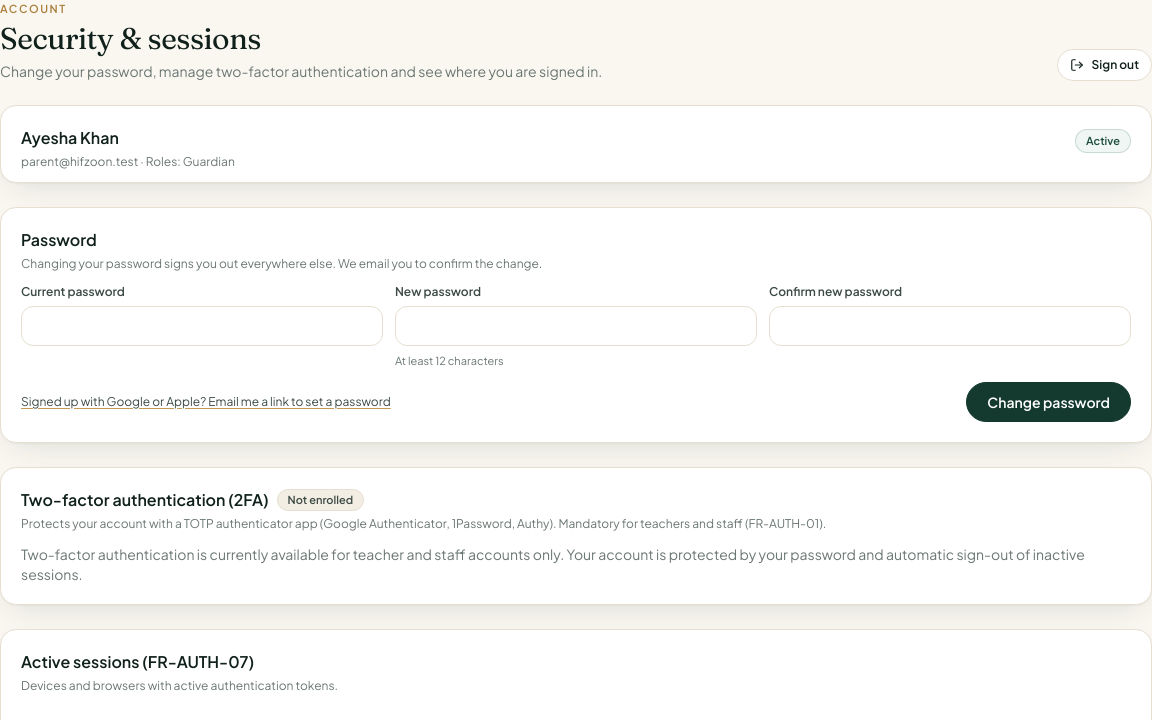
Scenario: Account security → Password › changes the password while signed in and reports the other sessions ended (M69)
Type "old-password-123" into the password field labelled "Current password" at (202, 326), box [21, 306, 383, 346]
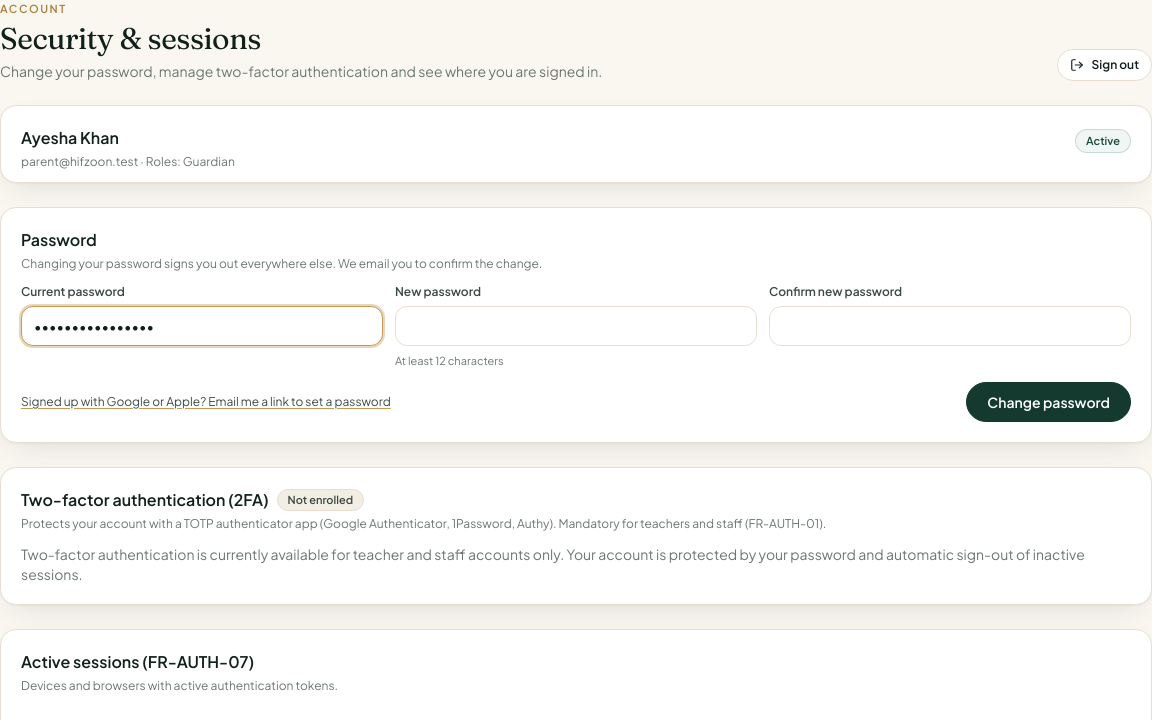
Type "new-password-456" into the password field labelled "New password" at (576, 326), box [395, 306, 757, 346]
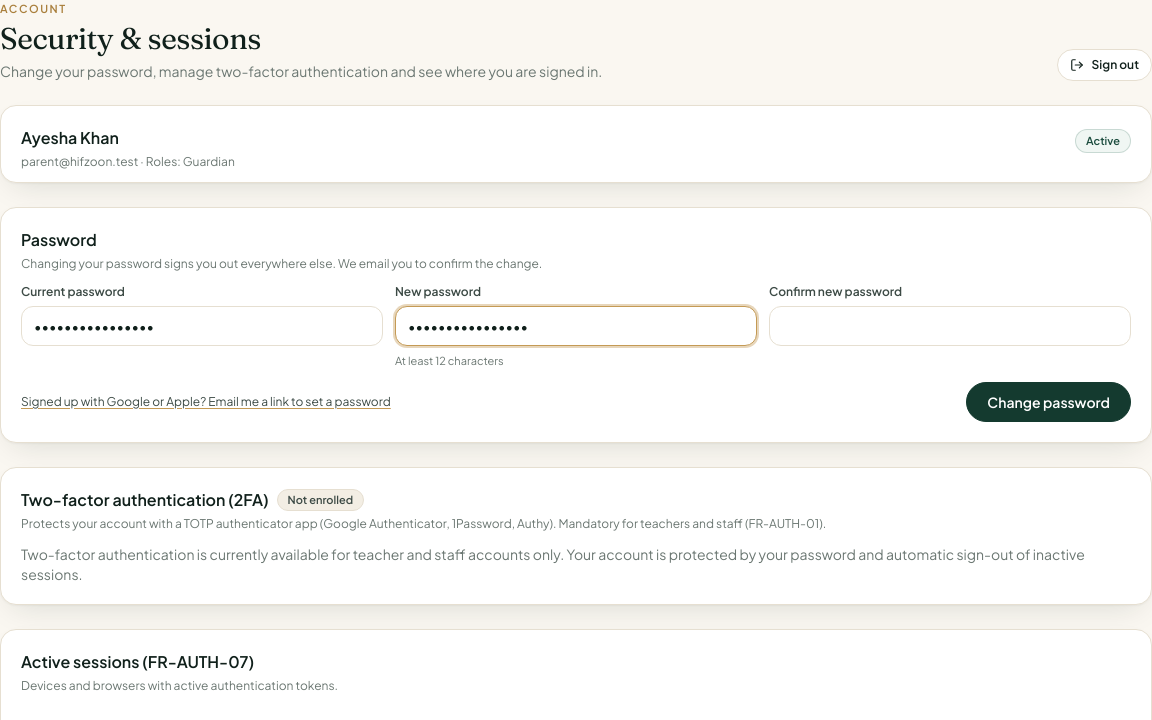
Type "new-password-456" into the password field labelled "Confirm new password" at (950, 326), box [769, 306, 1131, 346]
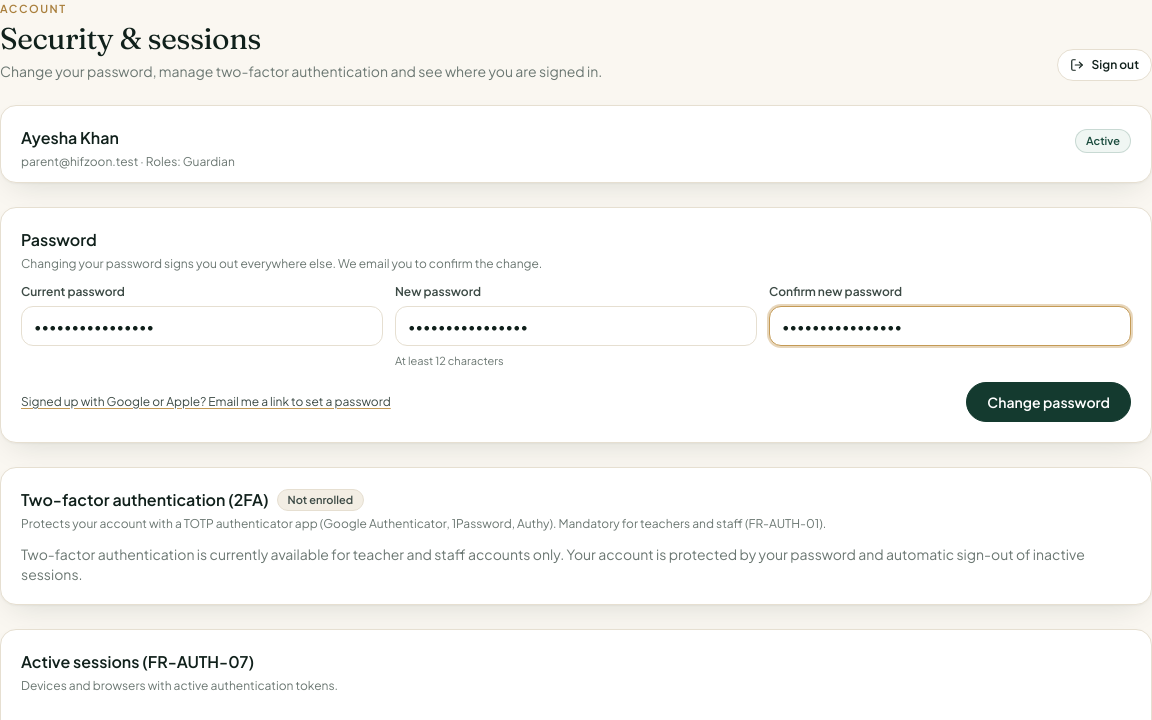
Click the button "Change password" at (1049, 402), box [966, 382, 1131, 422]
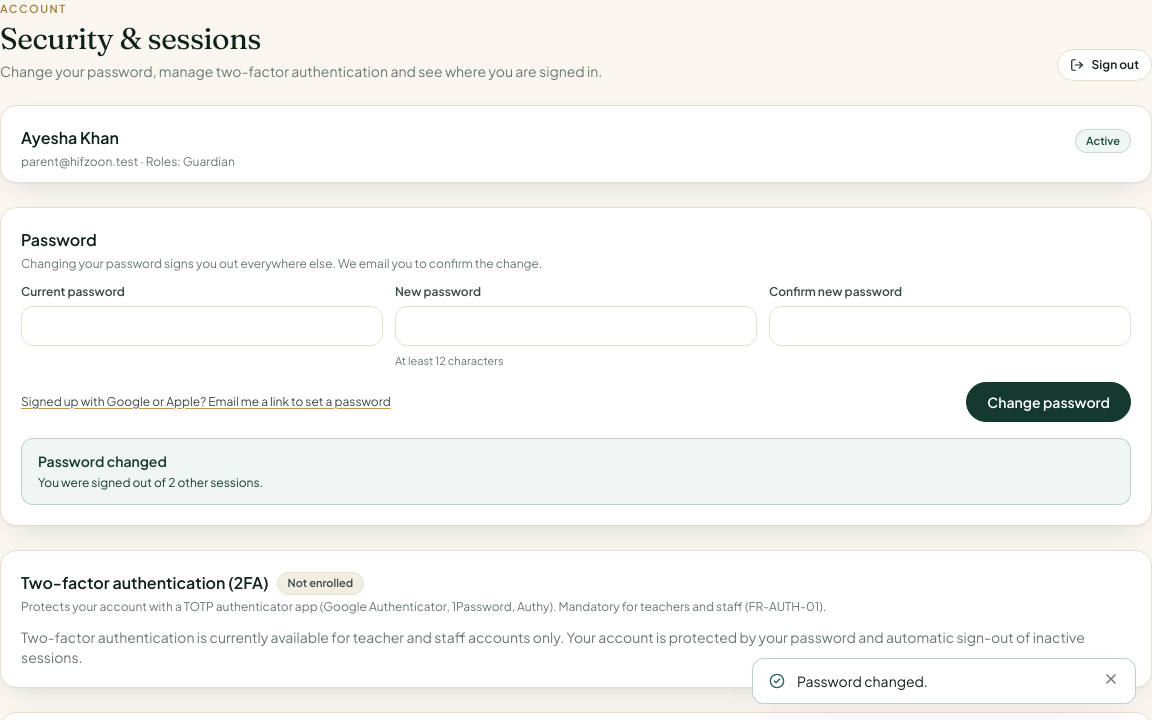
Check: the text "You were signed out of 2 other sessions." is shown, box [38, 475, 263, 490]
